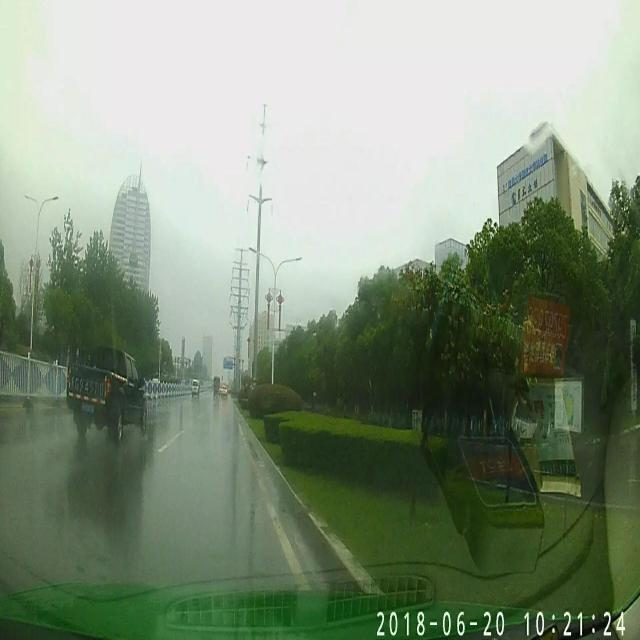car: (64, 347, 148, 438), (188, 378, 200, 397), (218, 382, 229, 396)
